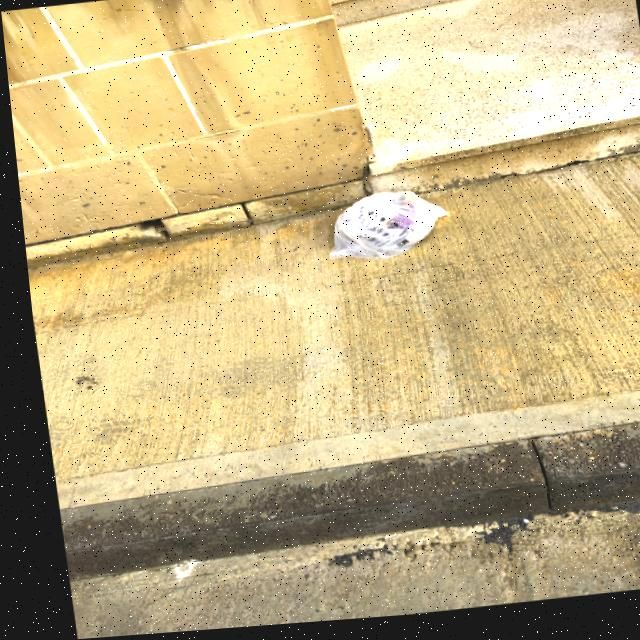Organic Waste -White Bag-: (315, 189, 442, 270)
